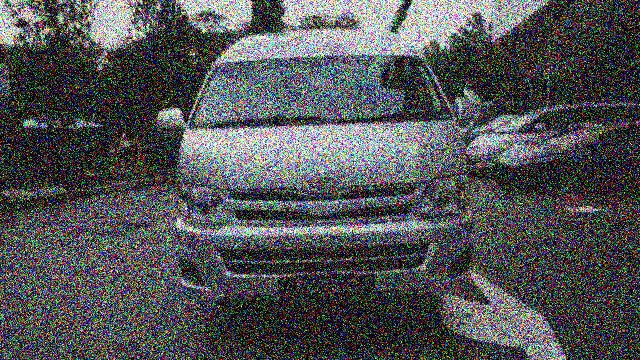van: (168, 27, 481, 304)
